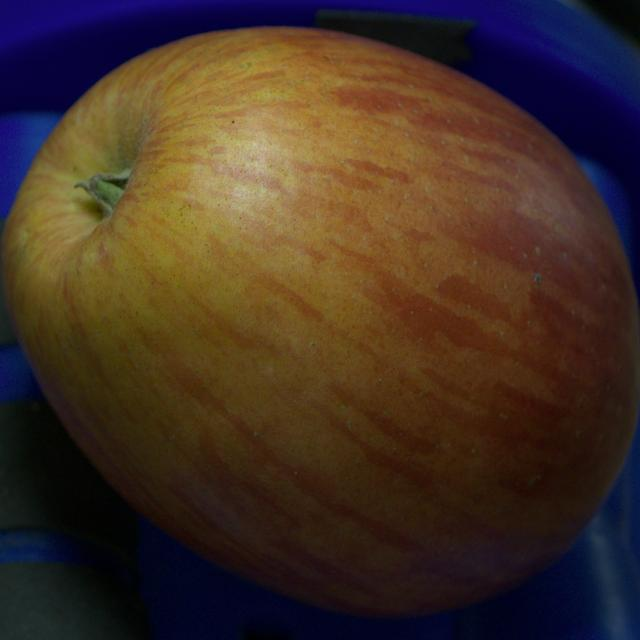apple: (0, 28, 639, 617)
pest: (534, 274, 541, 281)
